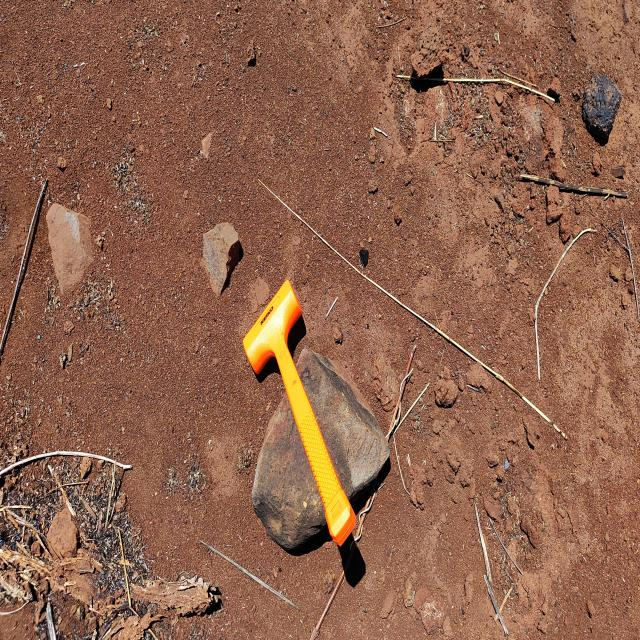Orange_hammer: (242, 278, 358, 548)
rock: (41, 192, 101, 300), (190, 210, 253, 295), (578, 67, 624, 149), (408, 42, 455, 100), (43, 501, 85, 563), (434, 365, 464, 412)
